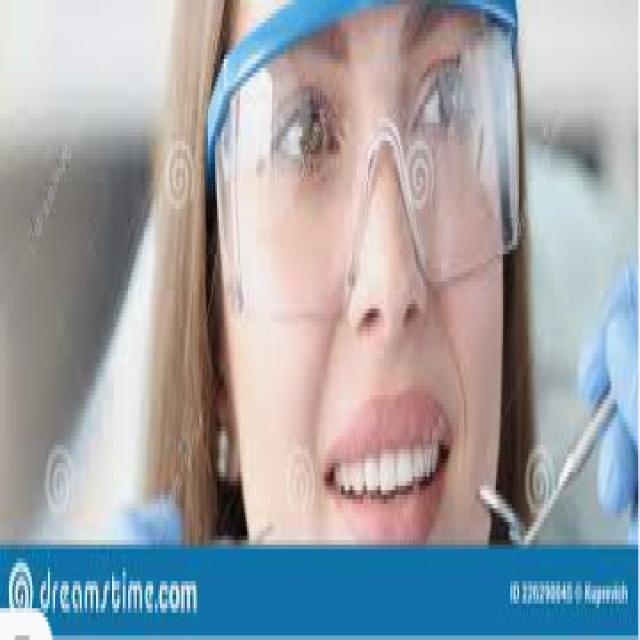glasses: (207, 22, 524, 318)
